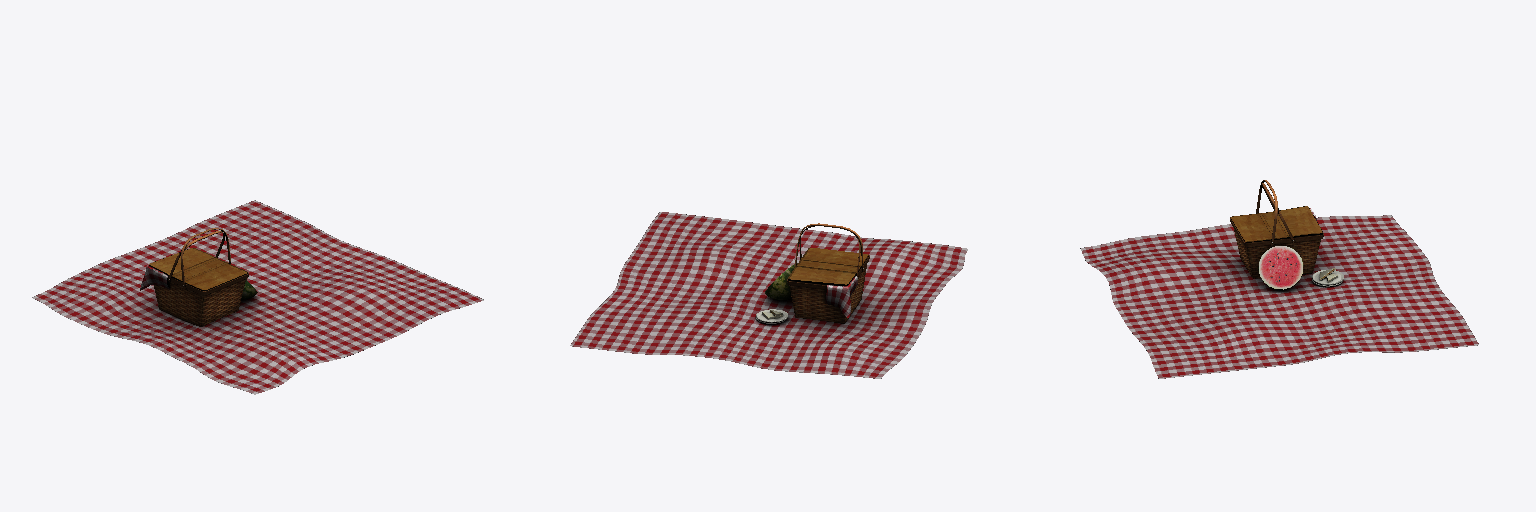
3 renders of one model, left to right at view 1: azimuth 30°, elevation 25°; view 2: azimuth 150°, elevation 25°; view 3: azimuth 270°, elevation 25°, orthographic.
Visible parts, largest first — view 1: polySurface4986; view 2: polySurface4986; view 3: polySurface4986.
Part boxes in pixels (x1,y1,x2,y2): polySurface4986: (32,200,483,394); polySurface4986: (570,212,967,378); polySurface4986: (1080,180,1478,378).
Bounding box in the file's own units: 2.94 × 0.689 × 3.02.
Materials: 1 (1 with a texture image).